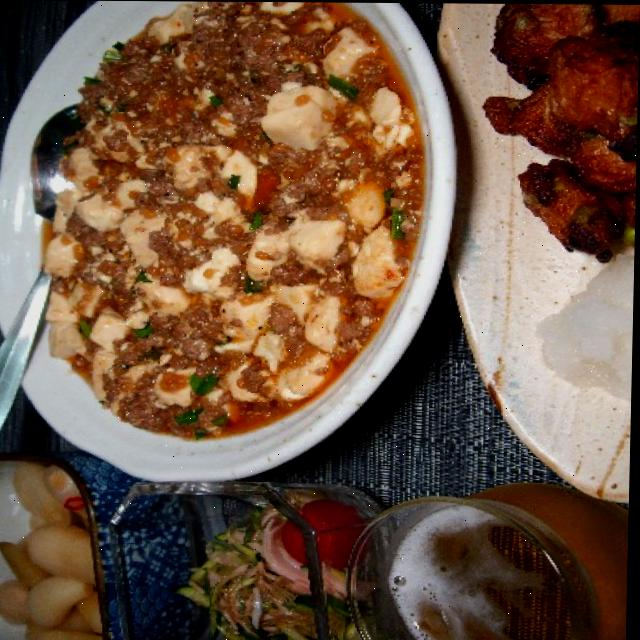豆腐料理: (0, 0, 464, 488)
